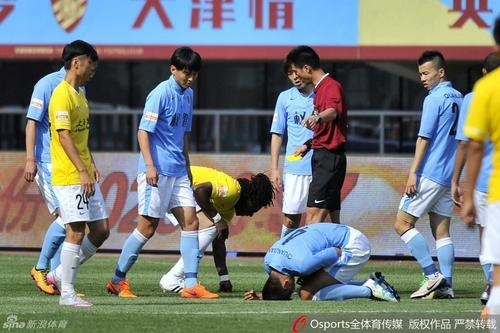falling: (247, 222, 400, 308)
